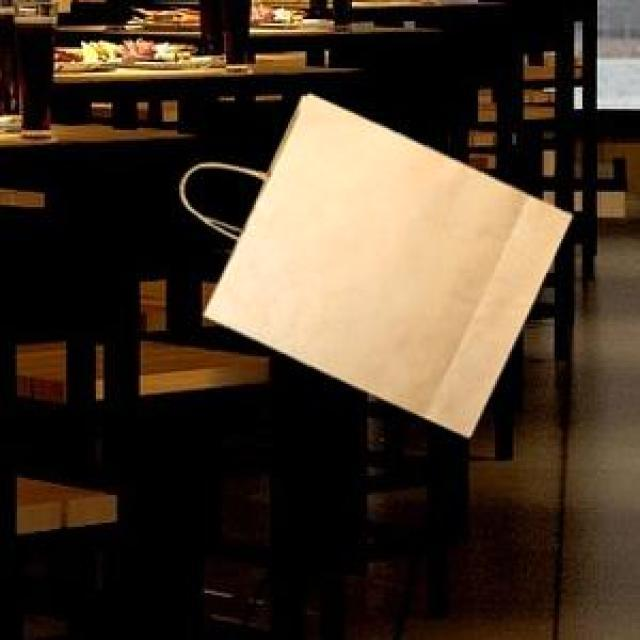Paper_Bag: (202, 90, 568, 434)
